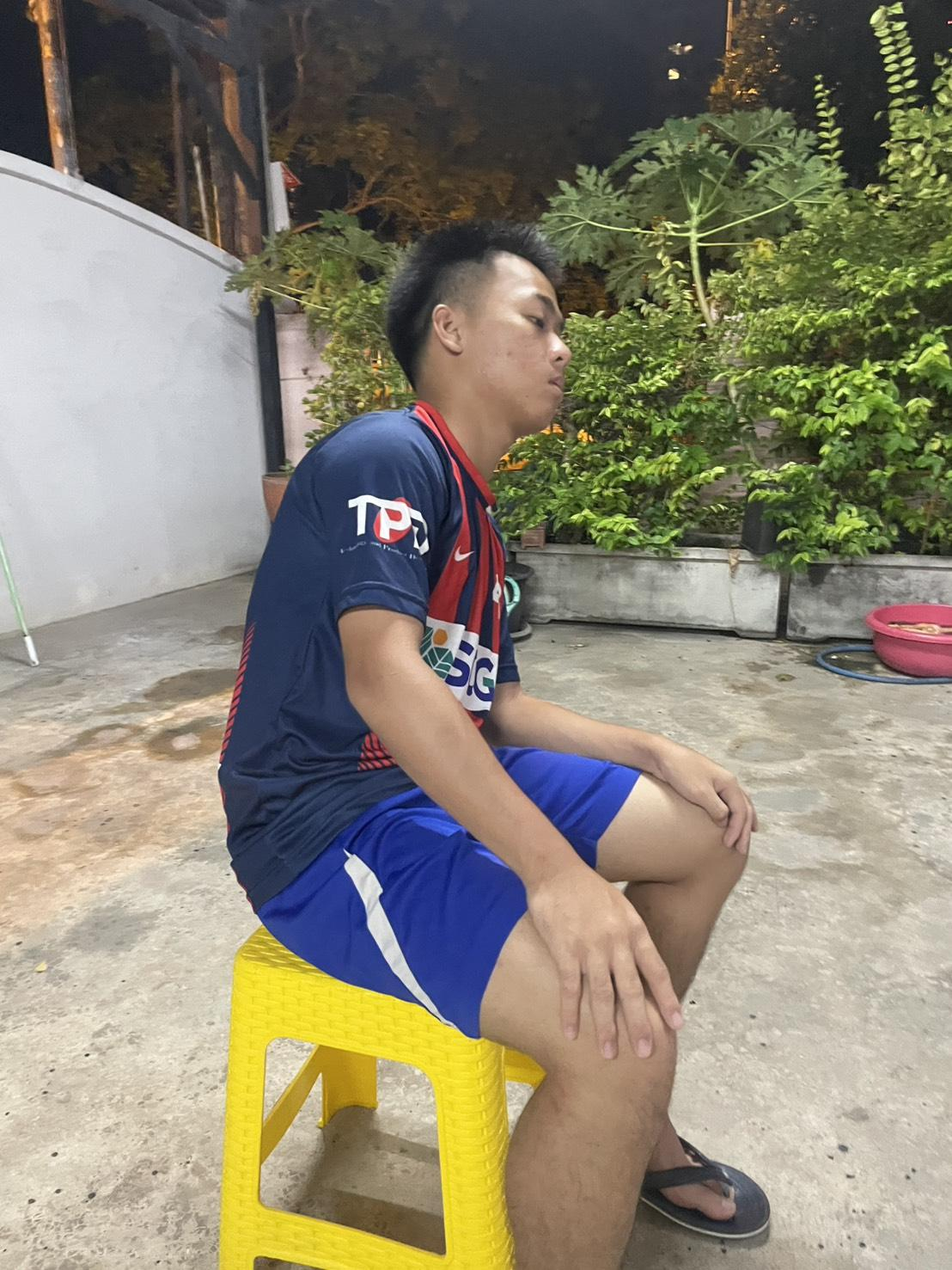BadPosture: (219, 222, 568, 914)
